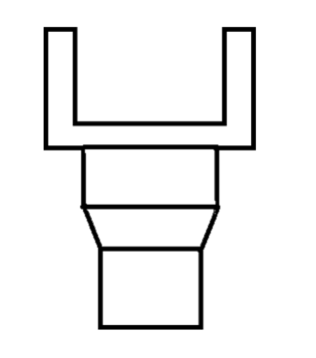nrfp: (35, 21, 263, 137)
